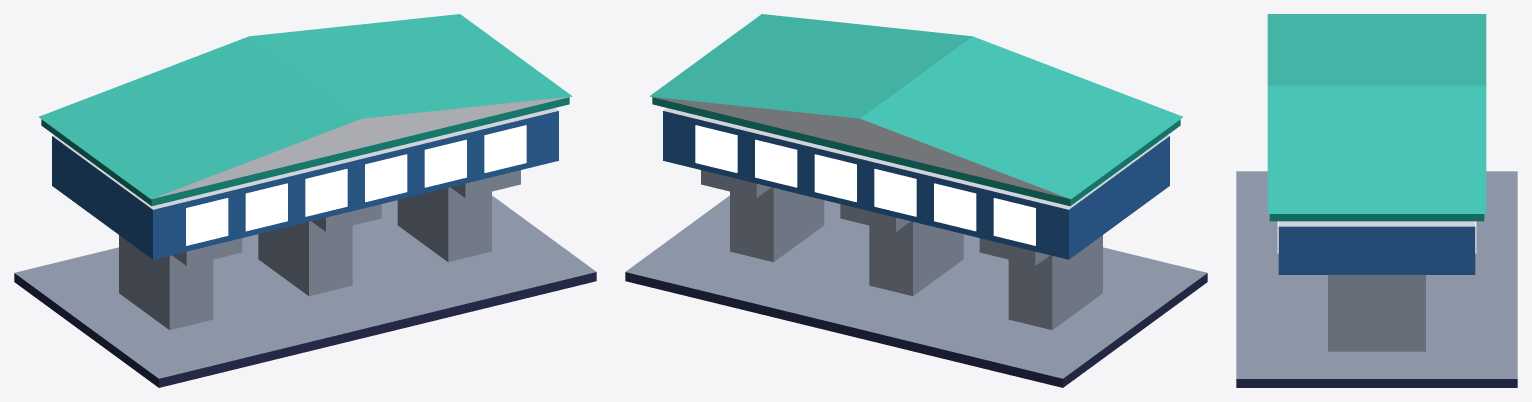
File: station-elevated-mrt.glb
3 renders of one model, left to right at view 1: azimuth 30°, elevation 25°; view 2: azimuth 150°, elevation 25°; view 3: azimuth 270°, elevation 25°, orthographic. The views are drawn at different scales.
Parts seen in each view (by area): view 1: station-elevated-mrt_root; view 2: station-elevated-mrt_root; view 3: station-elevated-mrt_root.
Boxes of the visible parts, <box> form: station-elevated-mrt_root: <box>14,14,596,387</box>; station-elevated-mrt_root: <box>625,14,1207,387</box>; station-elevated-mrt_root: <box>1236,14,1517,387</box>.
Bounding box in the file's own units: 22 × 9.8 × 12.6.
Materials: 2 (2 with a texture image).
